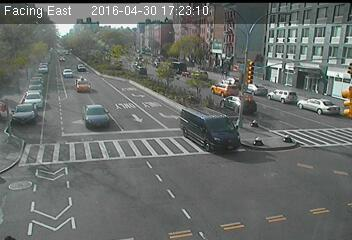neg: (113, 142, 133, 169), (275, 78, 288, 95), (263, 72, 274, 88), (253, 73, 263, 88), (200, 63, 210, 77), (118, 71, 128, 83), (301, 80, 310, 93), (333, 90, 342, 102), (229, 68, 238, 80), (151, 75, 159, 85), (185, 67, 192, 76)
